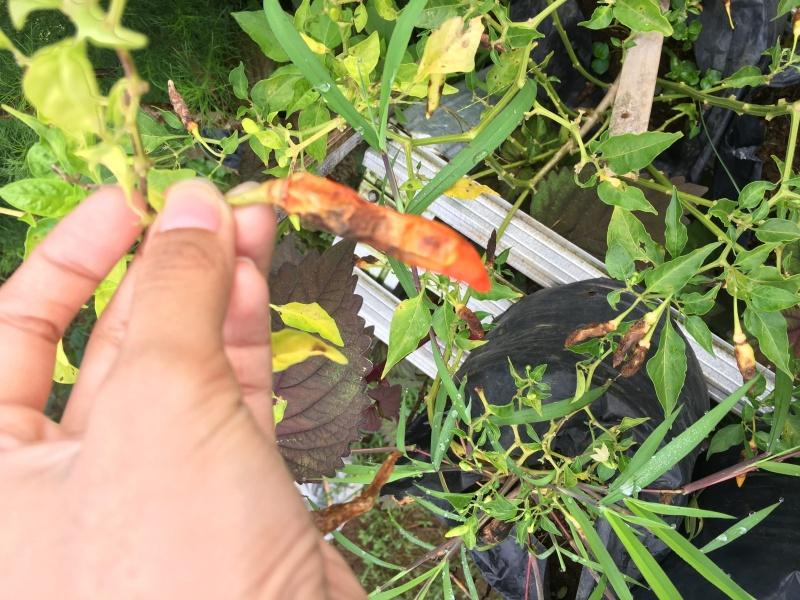antraknosa: (278, 171, 492, 293), (299, 451, 405, 535), (612, 310, 655, 368), (731, 334, 768, 398), (563, 318, 617, 348), (455, 303, 486, 338), (621, 341, 649, 378)
